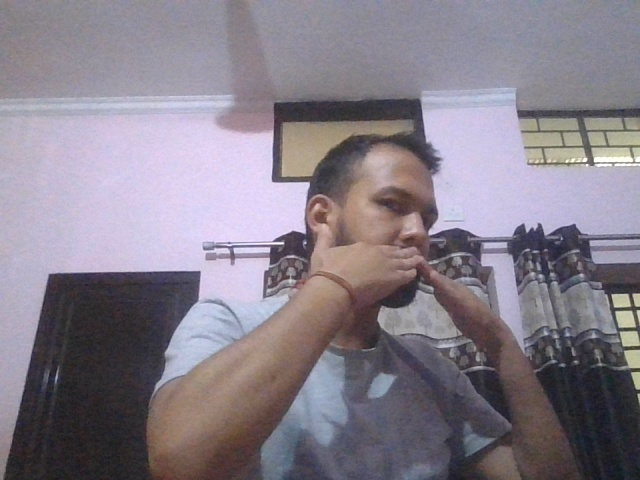thanks: (299, 225, 518, 356)
